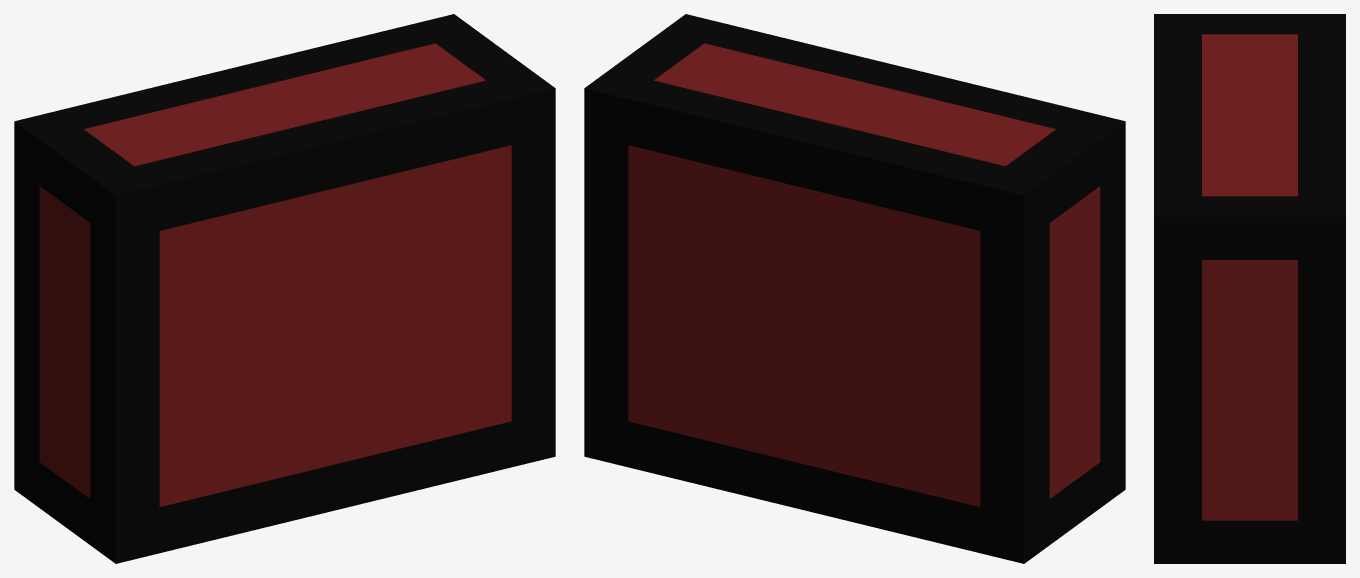
Rendered from Fire-3.obj.
The picture shows the model from 3 angles, left to right: view 1: azimuth 30°, elevation 25°; view 2: azimuth 150°, elevation 25°; view 3: azimuth 270°, elevation 25°; orthographic projection. The views are drawn at different scales.
Size of the model in its own units: 1 by 0.8 by 0.4.
1 material, 1 textured.
